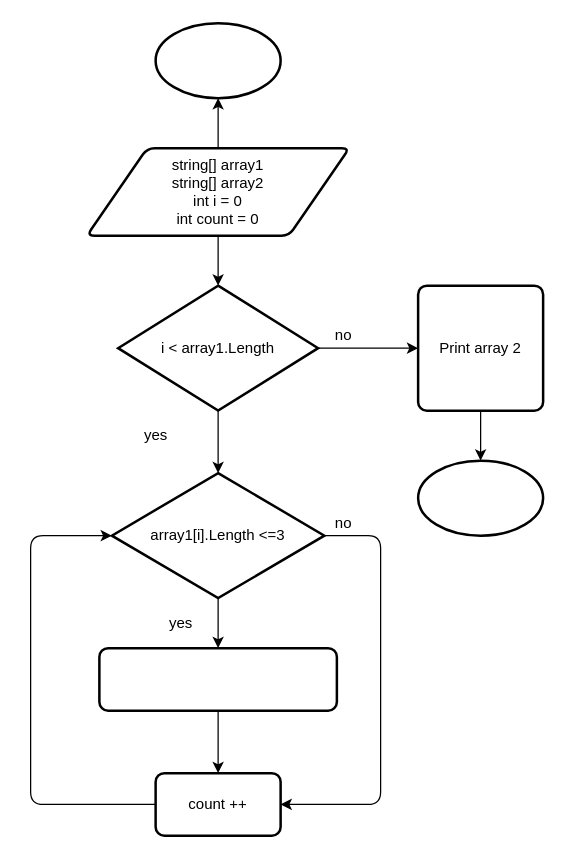
The diagram is 566 pixels wide and 858 high, and some of its shapes have lost their labels. The centre of each missing label's shape, as x and y in pixels:
"array2[count] = array1[i]" belongs at point (218, 678).
"start" belongs at point (217, 60).
"конец" belongs at point (480, 497).
